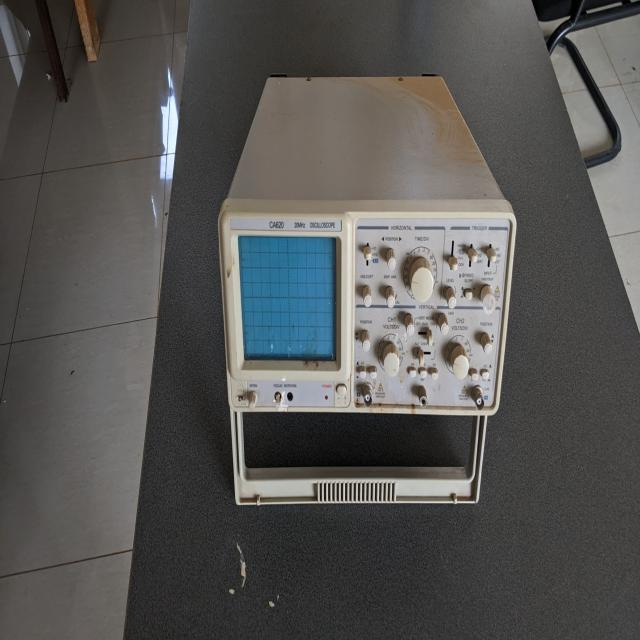Cathode Ray Oscilloscope: (217, 46, 518, 534)
